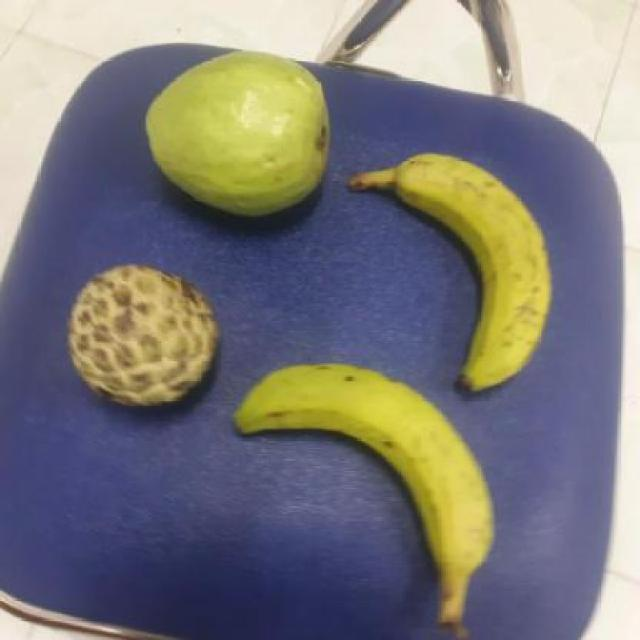banana: (230, 360, 495, 602), (350, 151, 555, 389)
guava: (141, 50, 327, 221)
sugar apple: (62, 266, 218, 409)
